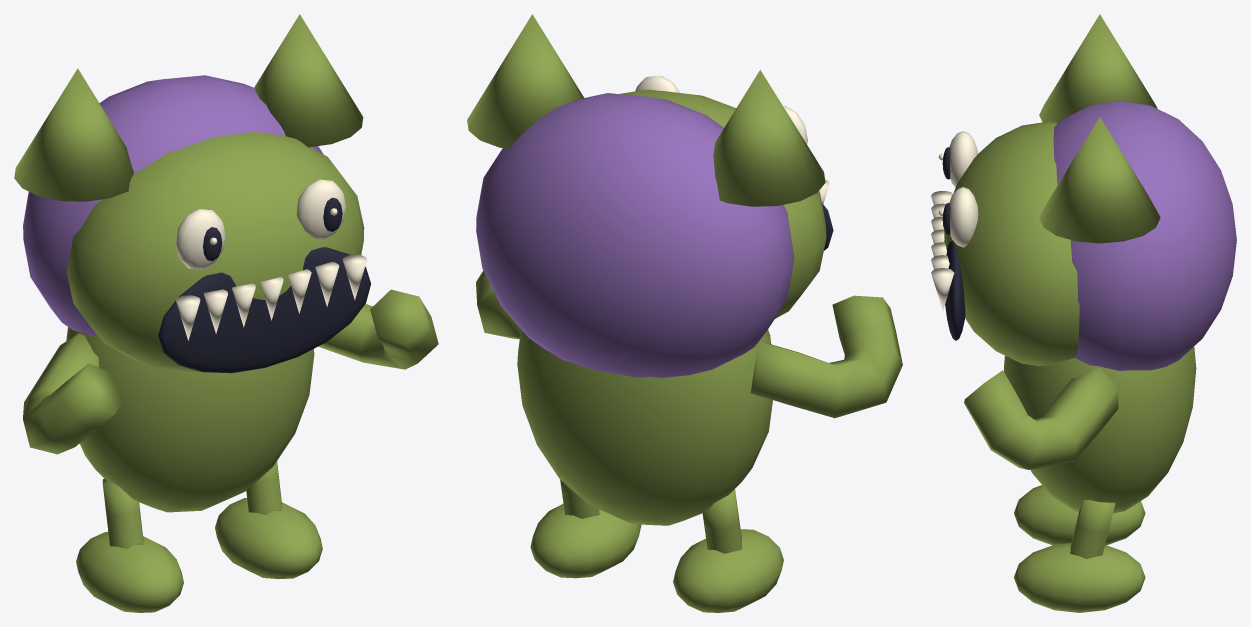
File: bite-mark-were.glb
3 renders of one model, left to right at view 1: azimuth 30°, elevation 25°; view 2: azimuth 150°, elevation 25°; view 3: azimuth 270°, elevation 25°, orthographic. The views are drawn at different scales.
Parts seen in each view (by area): view 1: bite-mark-were_toy-sw-olive, bite-mark-were_toy-sw-violet, bite-mark-were_toy-sw-ink, bite-mark-were_toy-sw-paper; view 2: bite-mark-were_toy-sw-olive, bite-mark-were_toy-sw-violet, bite-mark-were_toy-sw-paper; view 3: bite-mark-were_toy-sw-olive, bite-mark-were_toy-sw-violet, bite-mark-were_toy-sw-paper, bite-mark-were_toy-sw-ink.
Boxes of the visible parts, x1,y1,x2,y2 form: bite-mark-were_toy-sw-olive: (14, 14, 438, 612); bite-mark-were_toy-sw-violet: (23, 75, 323, 335); bite-mark-were_toy-sw-ink: (158, 197, 370, 373); bite-mark-were_toy-sw-paper: (175, 179, 366, 340); bite-mark-were_toy-sw-olive: (467, 14, 902, 612); bite-mark-were_toy-sw-violet: (476, 93, 794, 377); bite-mark-were_toy-sw-paper: (635, 75, 829, 203); bite-mark-were_toy-sw-olive: (944, 14, 1196, 612); bite-mark-were_toy-sw-violet: (1053, 101, 1236, 370); bite-mark-were_toy-sw-paper: (931, 131, 978, 311); bite-mark-were_toy-sw-ink: (942, 147, 965, 340).
Bounding box in the file's own units: 0.6001 × 0.7778 × 0.4229.
